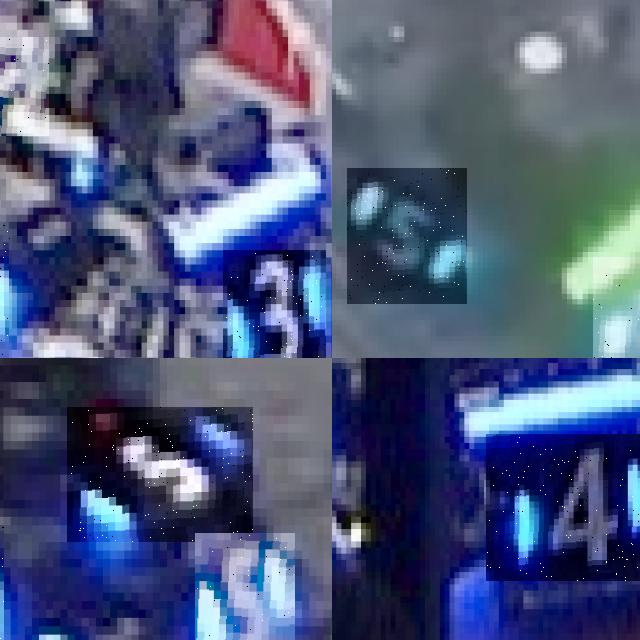B3: (223, 250, 326, 358), (0, 36, 49, 136)
B4: (486, 433, 640, 581)
B5: (67, 407, 253, 542), (347, 168, 467, 304), (195, 533, 294, 640), (593, 257, 640, 358)
